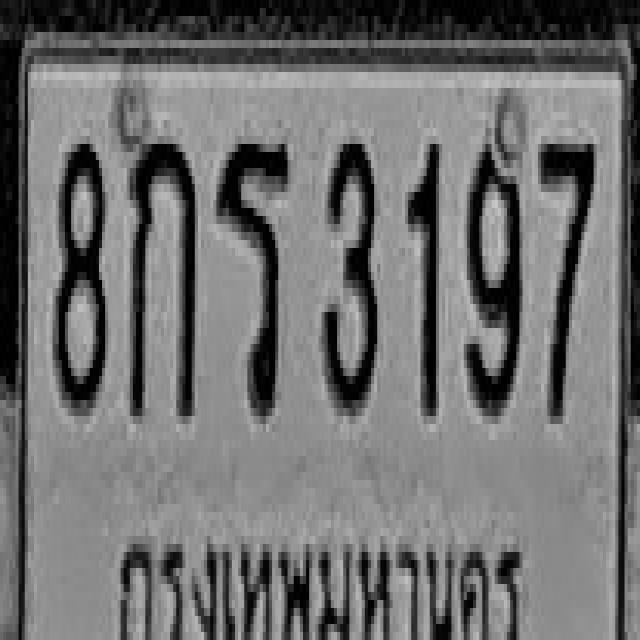1: (405, 136, 439, 416)
10GorGai: (127, 132, 195, 420)
3: (322, 136, 377, 408)
44RorRuea: (215, 136, 289, 416)
7: (538, 136, 594, 416)
8: (53, 136, 105, 408)
9: (465, 132, 521, 412)
Bangkok: (95, 500, 530, 640)
